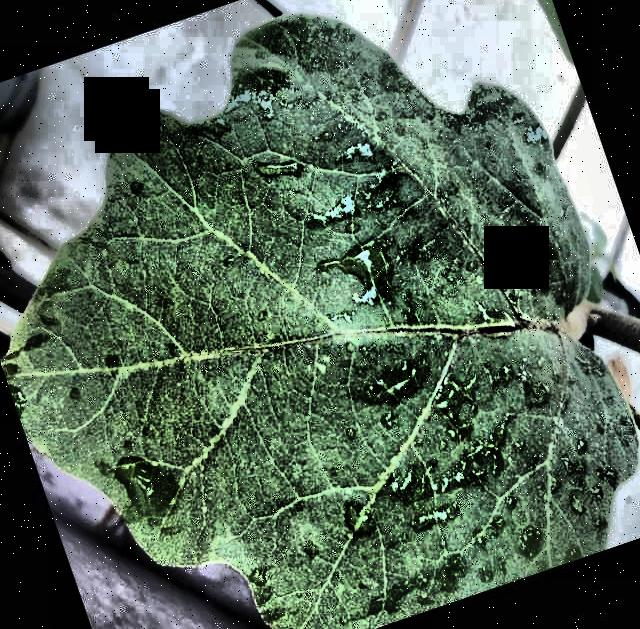HEALTHY: (0, 1, 640, 629)
